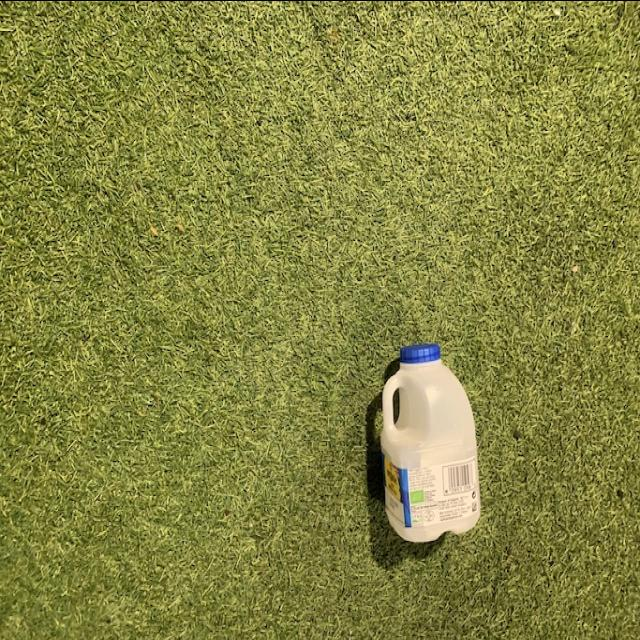HDPEM: (380, 344, 482, 544)
